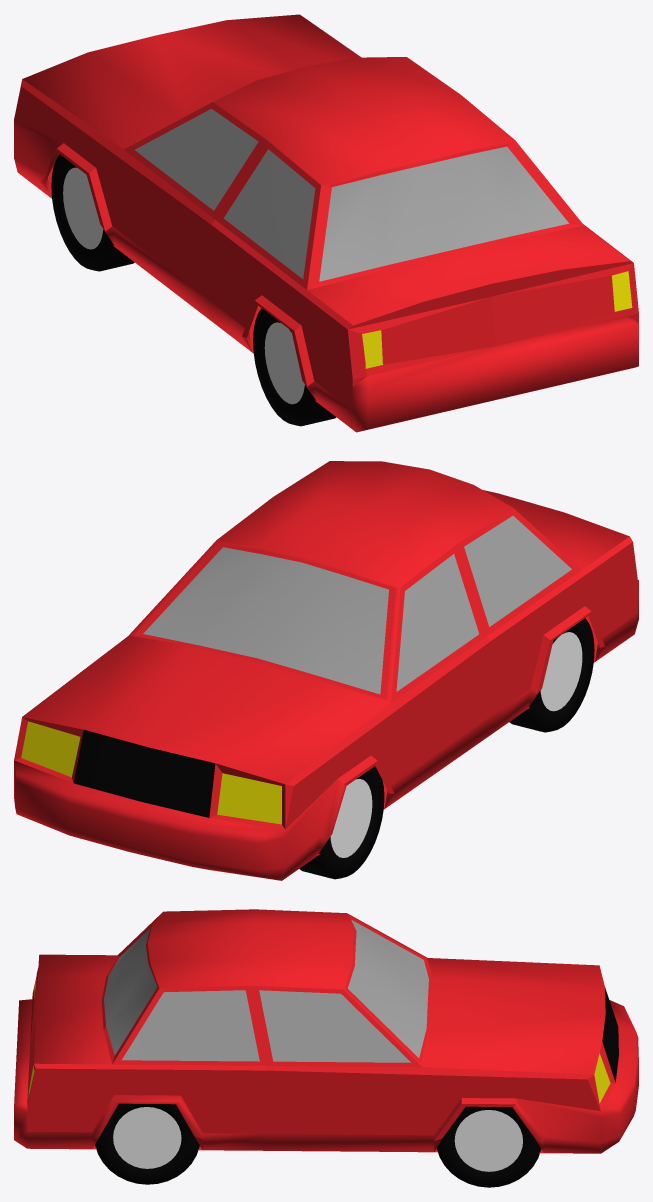
Rendered from masina.obj.
The picture shows the model from 3 angles, top to bottom: view 1: azimuth 30°, elevation 25°; view 2: azimuth 150°, elevation 25°; view 3: azimuth 270°, elevation 25°; orthographic projection. The views are drawn at different scales.
Visible parts, largest first — view 1: Car_Cube; view 2: Car_Cube; view 3: Car_Cube.
Boxes of the visible parts, x1,y1,x2,y2 form: Car_Cube: (14,14,638,432); Car_Cube: (14,461,638,880); Car_Cube: (14,909,638,1187).
Size of the model in its own units: 0.5752 by 0.4218 by 1.24.
